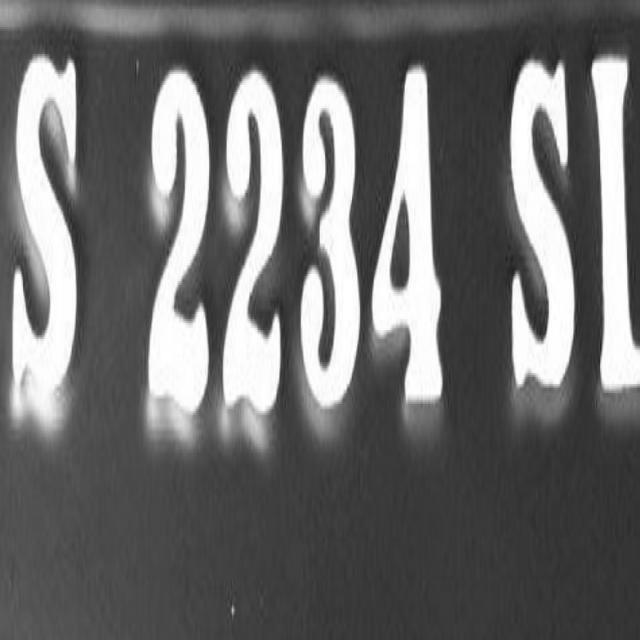2: (132, 66, 218, 431), (218, 75, 284, 432)
3: (284, 76, 378, 421)
4: (382, 60, 450, 418)
I: (585, 36, 640, 405)
S: (486, 38, 586, 404), (0, 50, 98, 414)
